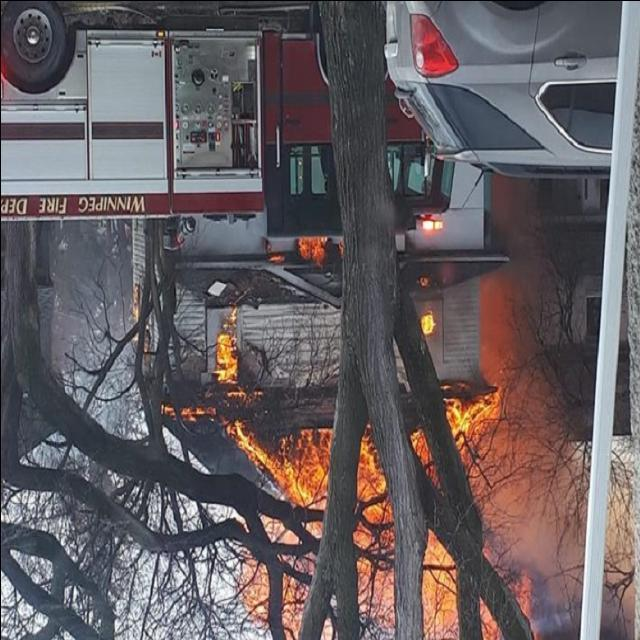Fire: (174, 331, 540, 639)
